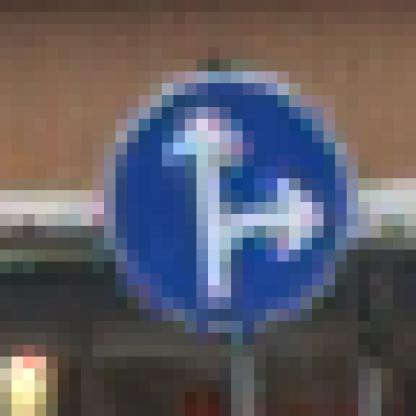Straight or Right: (70, 60, 348, 346)
